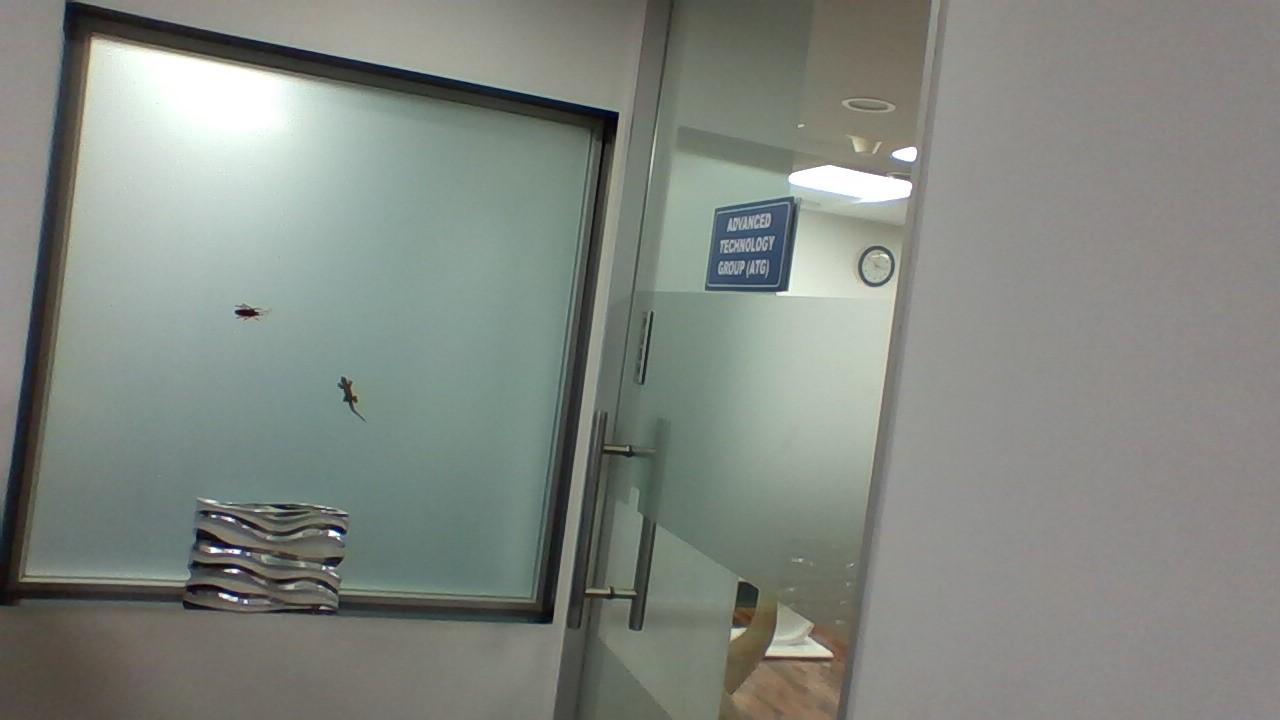cockroach: (219, 293, 281, 338)
lizard: (327, 365, 378, 431)
